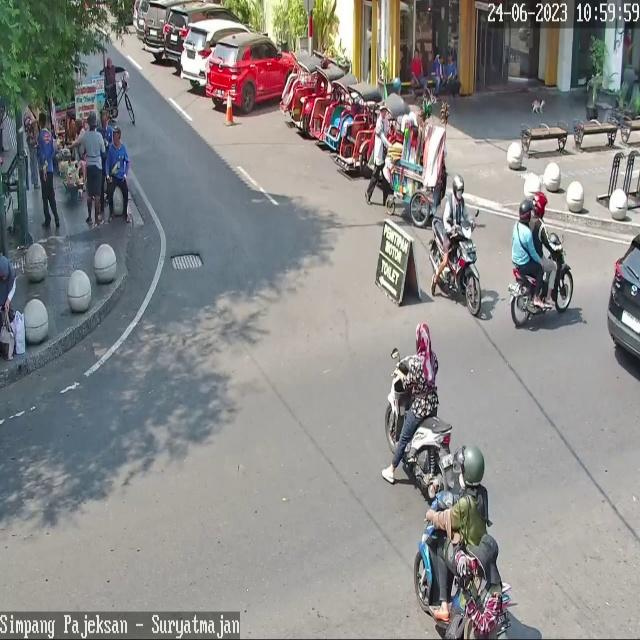bus: (384, 352, 461, 499), (509, 230, 573, 327), (414, 490, 461, 607), (427, 220, 482, 314)
motorcycle: (206, 33, 300, 112), (163, 4, 246, 64), (181, 21, 252, 84), (607, 235, 640, 358), (143, 0, 169, 53)
